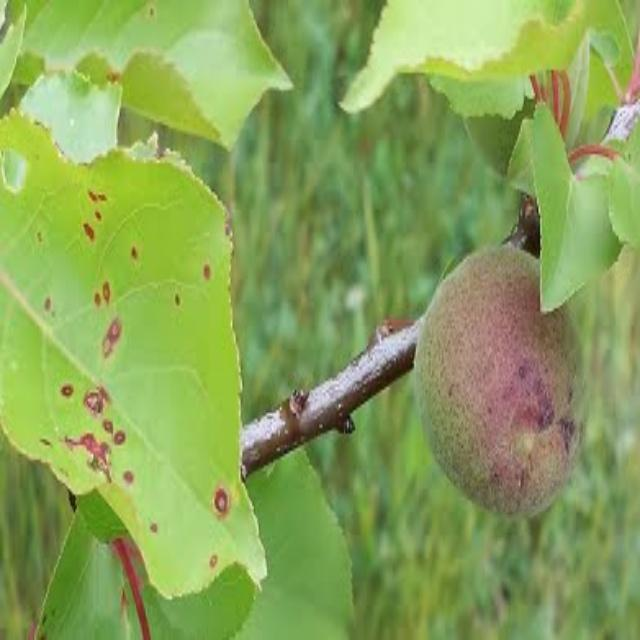leaf_spot: (0, 121, 321, 622)
